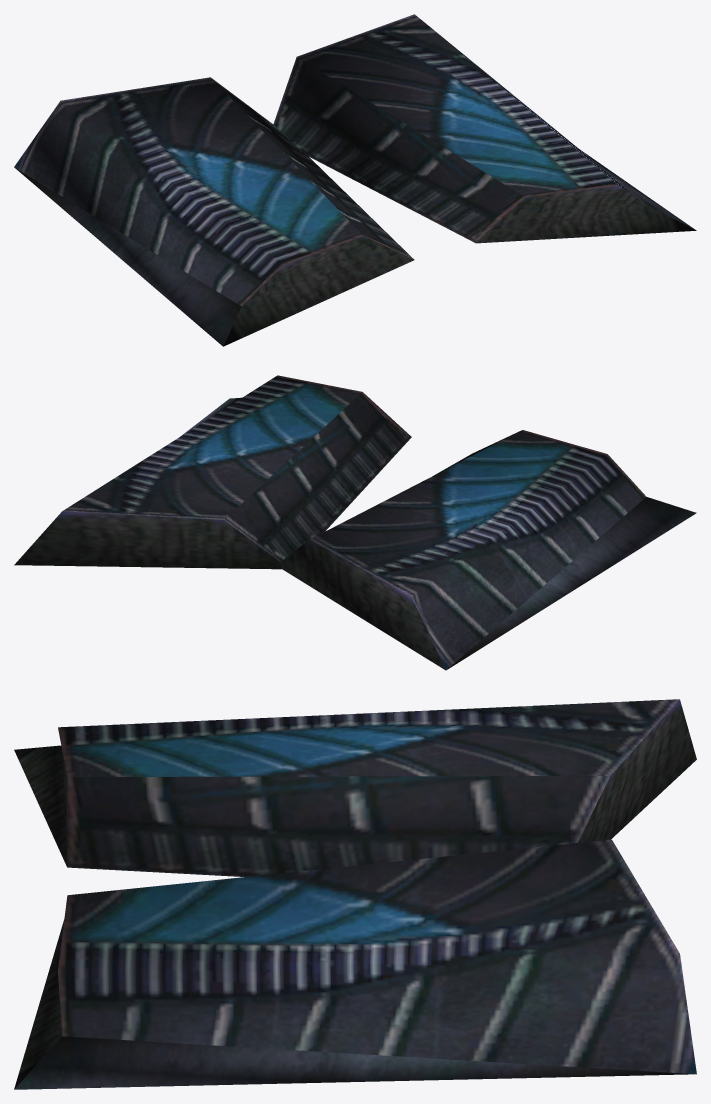
File: LegPads6__LED.glb
The picture shows the model from 3 angles, top to bottom: view 1: azimuth 30°, elevation 25°; view 2: azimuth 150°, elevation 25°; view 3: azimuth 270°, elevation 25°; orthographic projection. The views are drawn at different scales.
Parts seen in each view (by area): view 1: LegPads6; view 2: LegPads6; view 3: LegPads6.
Boxes of the visible parts, box(x1,y1,x2,y2) form: LegPads6: box(14, 14, 696, 346); LegPads6: box(14, 375, 696, 670); LegPads6: box(14, 699, 696, 1089).
Bounding box in the file's own units: 22.69 × 3.43 × 19.23.
Materials: 1 (1 with a texture image).
